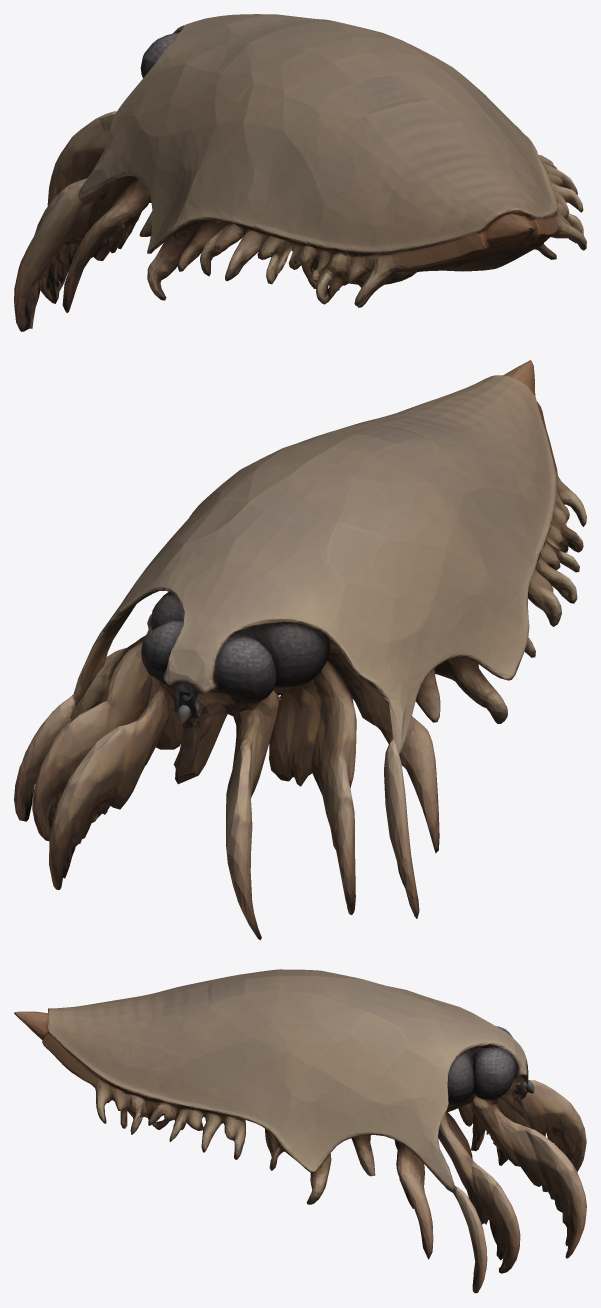
3 renders of one model, top to bottom at view 1: azimuth 30°, elevation 25°; view 2: azimuth 150°, elevation 25°; view 3: azimuth 270°, elevation 25°, orthographic. The views are drawn at different scales.
Parts seen in each view (by area): view 1: world; view 2: world; view 3: world.
Part boxes in pixels (x1=…): world: x1=14, y1=14, x2=586, y2=331; world: x1=14, y1=360, x2=586, y2=940; world: x1=14, y1=969, x2=586, y2=1293.
Bounding box in the file's own units: 0.6156 × 0.4732 × 1.02.
1 material, 1 textured.
